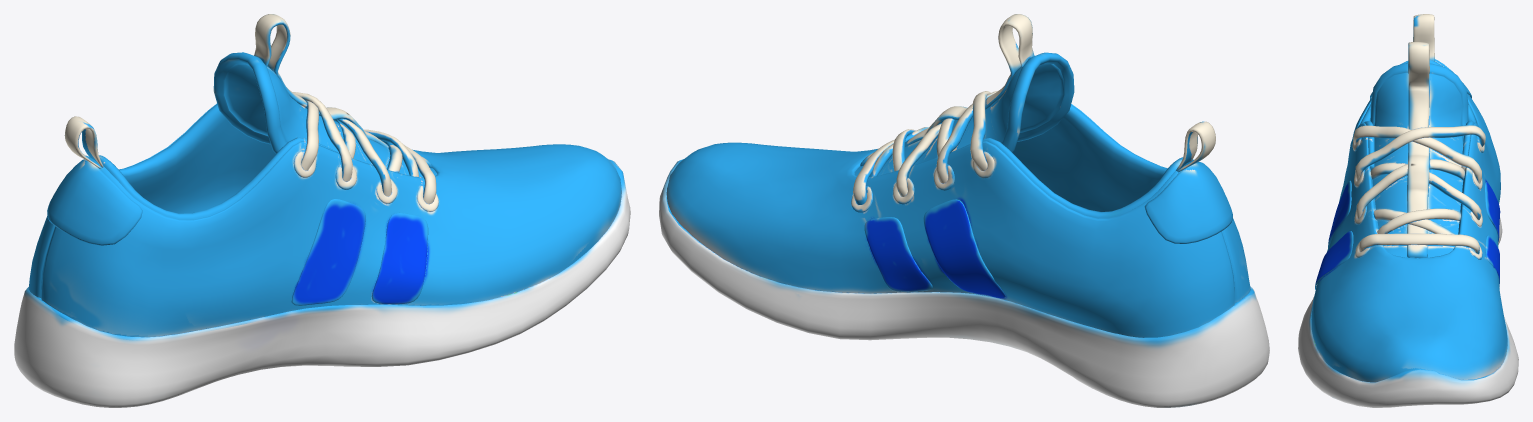
File: MaterialsVariantsShoe.gltf
3 renders of one model, left to right at view 1: azimuth 30°, elevation 25°; view 2: azimuth 150°, elevation 25°; view 3: azimuth 270°, elevation 25°, orthographic. The views are drawn at different scales.
Parts seen in each view (by area): view 1: Shoe; view 2: Shoe; view 3: Shoe.
Part boxes in pixels (box(x1,y1,x2,y2)): Shoe: box(14, 14, 630, 407); Shoe: box(659, 14, 1269, 407); Shoe: box(1298, 14, 1518, 407).
Size of the model in its own units: 0.2979 by 0.1531 by 0.1158.
